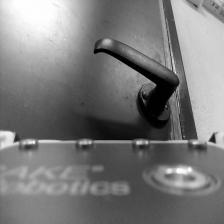Door Handle: (94, 38, 181, 126)
